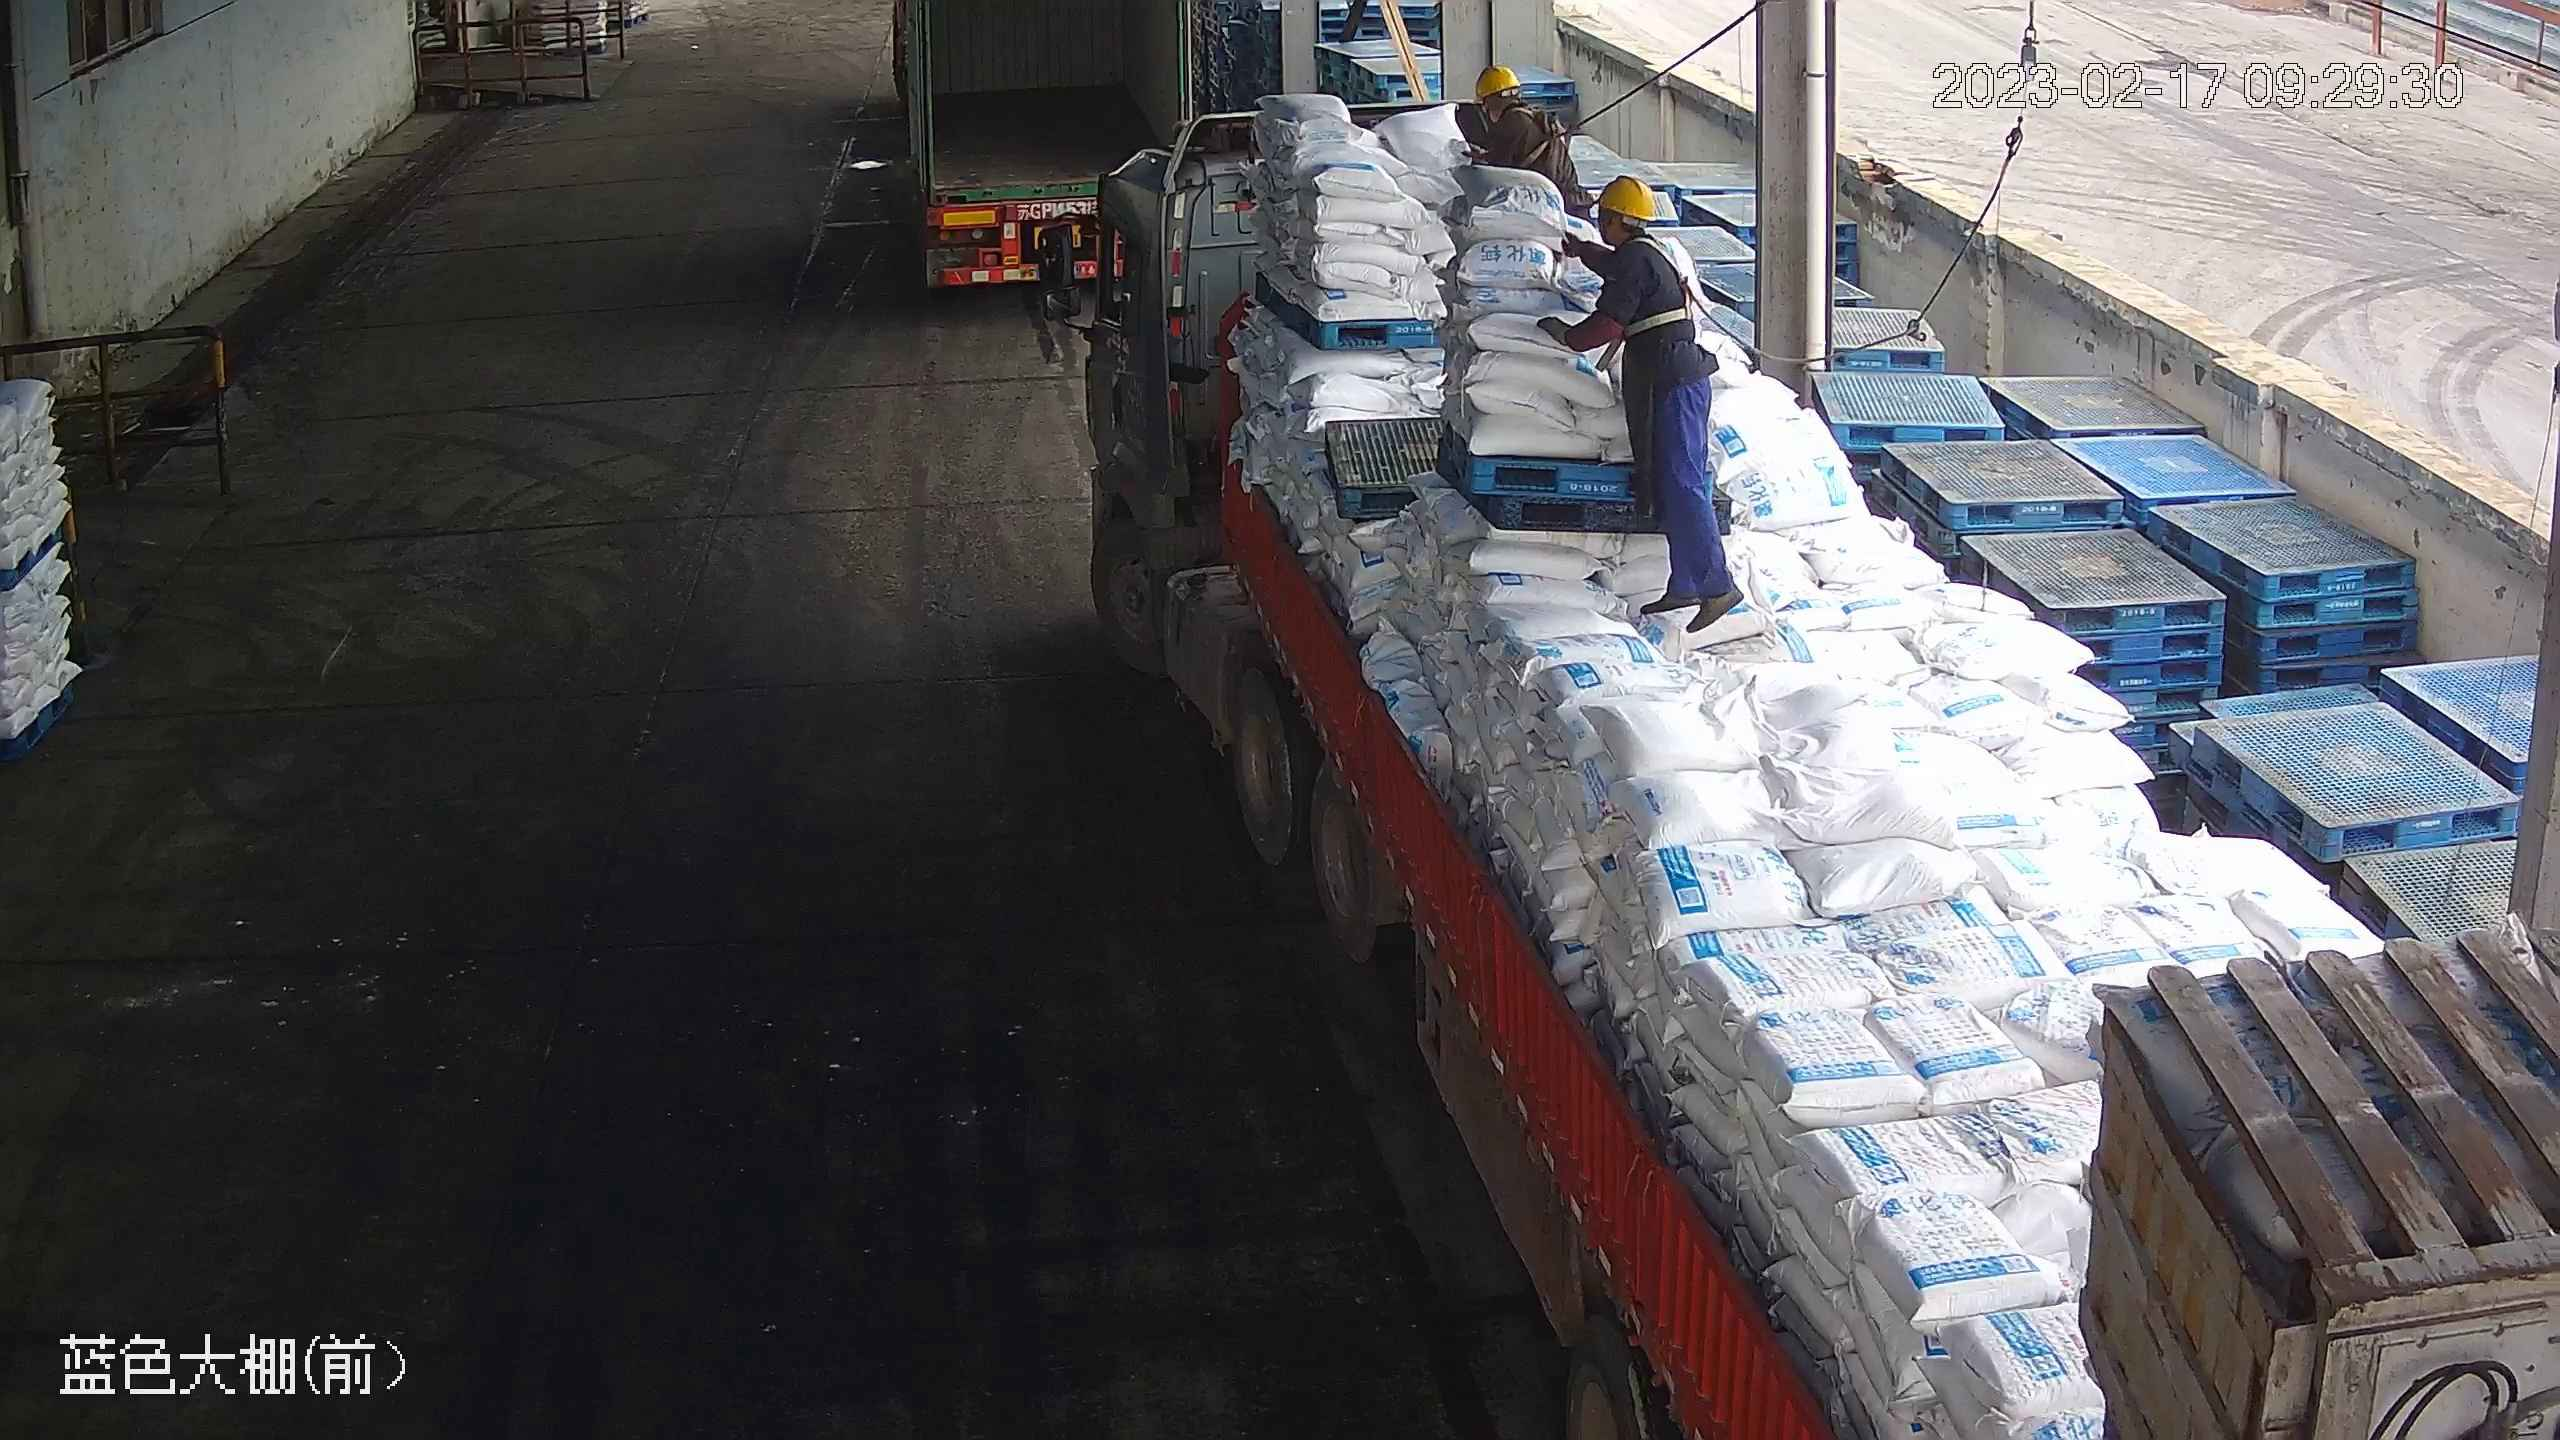belt: (1625, 239, 1718, 335), (1513, 105, 1590, 169)
head: (1556, 176, 1695, 330), (1467, 66, 1569, 171)
helmet: (1598, 178, 1659, 220), (1473, 62, 1520, 98)
people: (1534, 174, 1754, 633)
truck: (1032, 101, 2560, 1440), (873, 1, 1205, 301)
